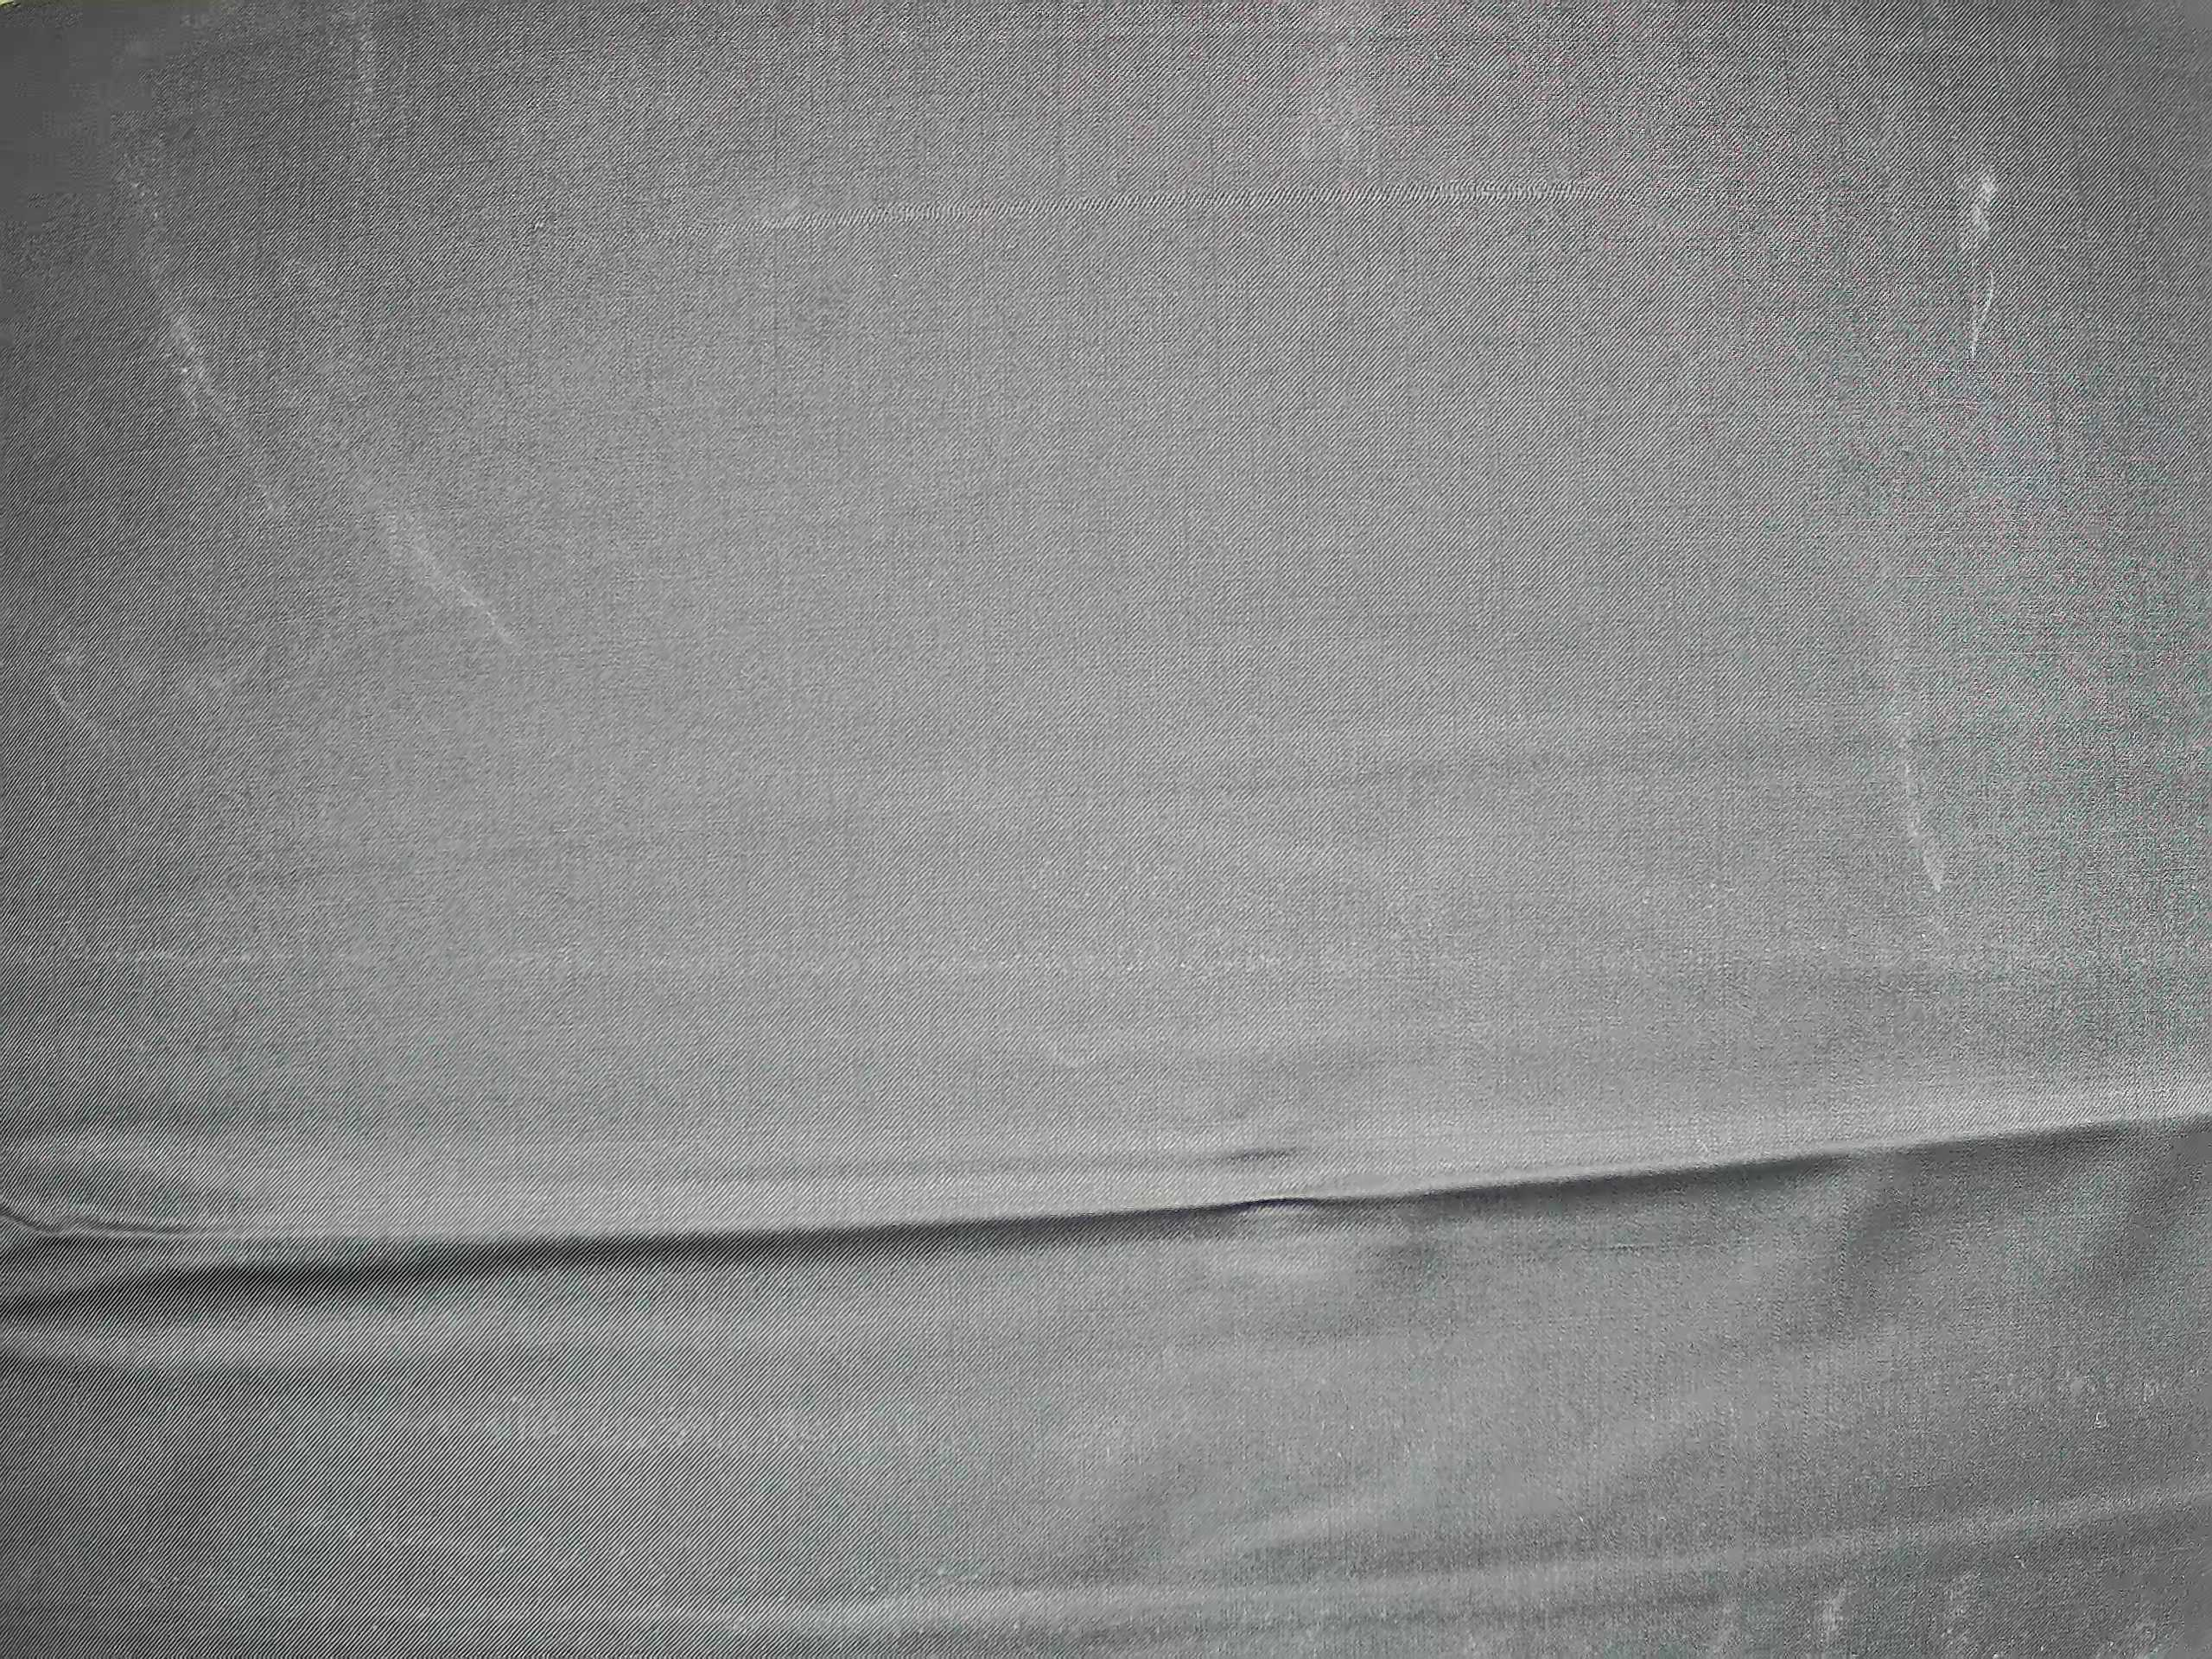stains: (141, 291, 524, 692)
thin-spinning: (491, 179, 1747, 256)
